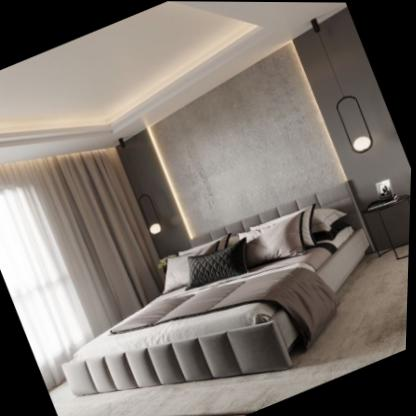Bed: (63, 181, 373, 396)
Curtains: (0, 147, 166, 391)
Gypsum Board: (0, 0, 361, 200)
Wall Panel: (119, 4, 412, 251)
